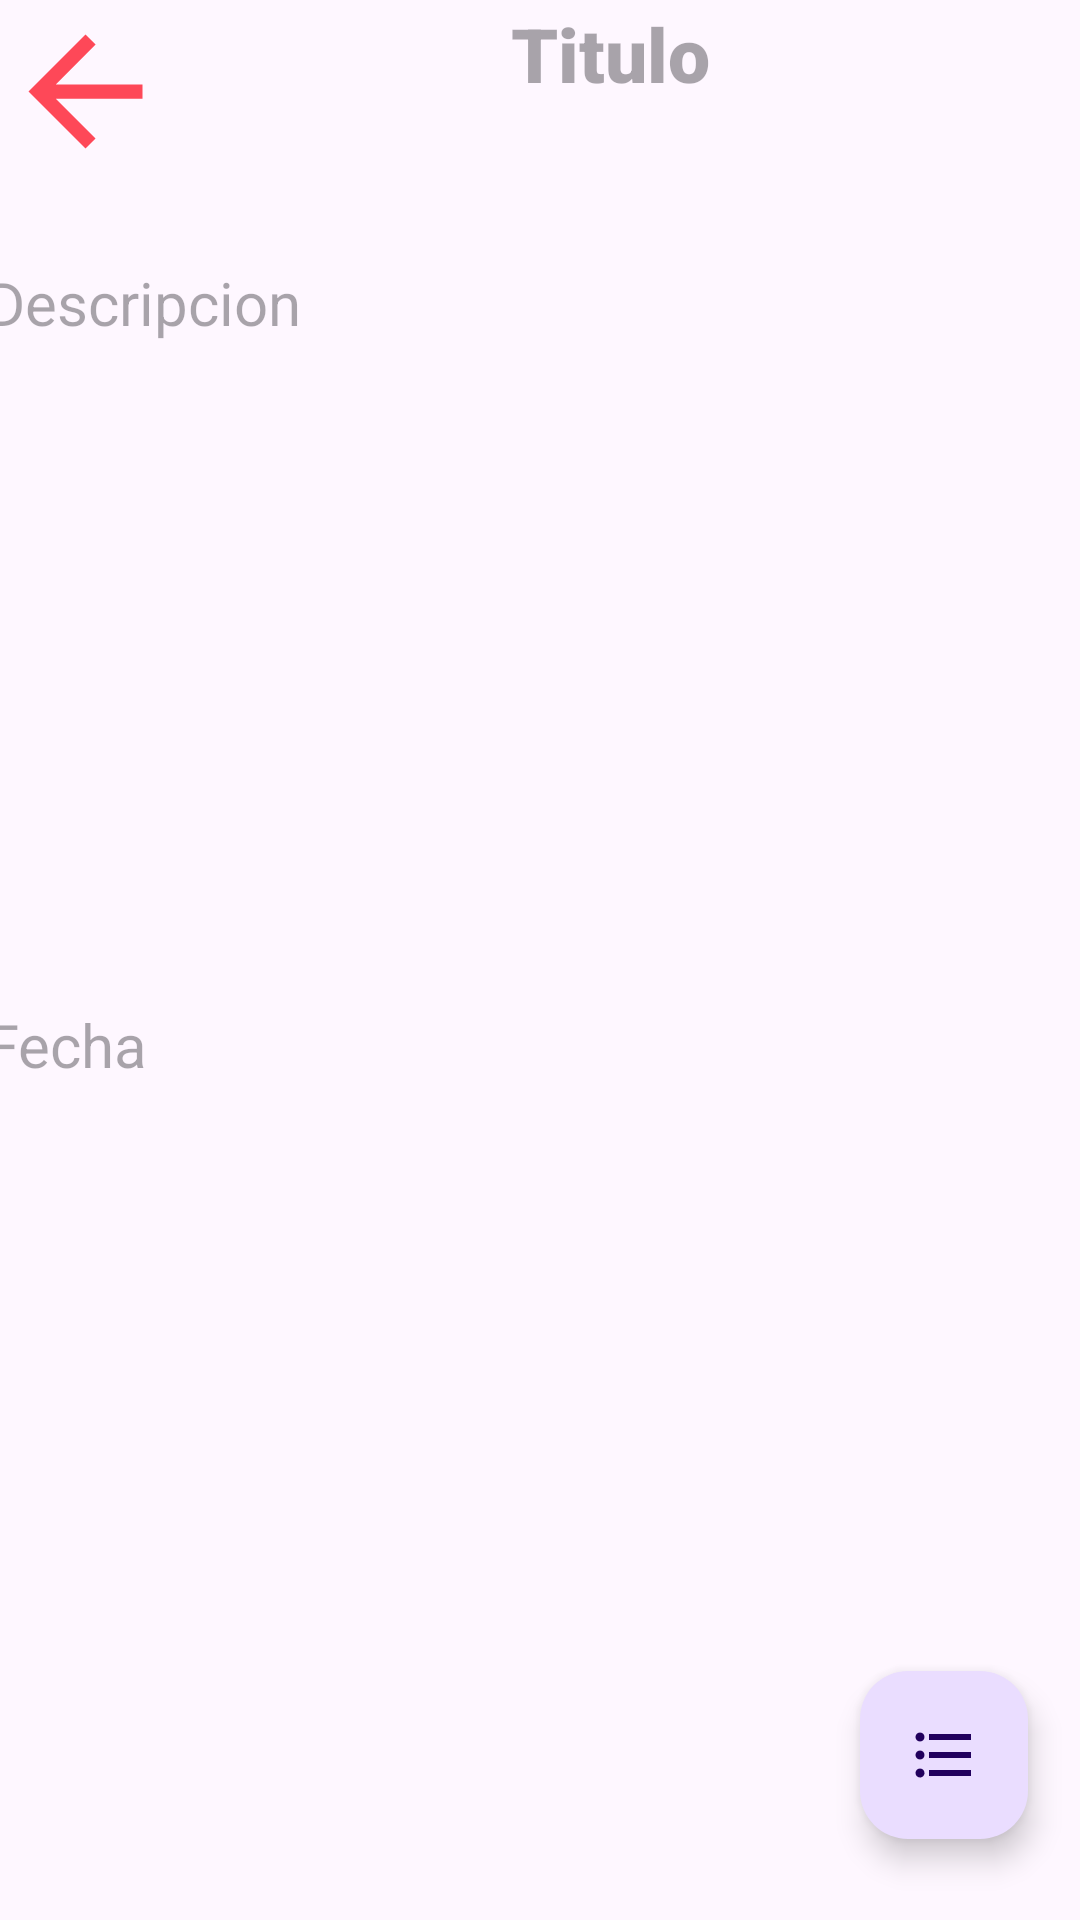

Named icons in this screenshot (1080*1920) and their bounding boxes, {"left": x1, "top": y1, "right": x2, "bottom": y2}:
arrow back: {"left": 28, "top": 34, "right": 143, "bottom": 149}
format list bulleted: {"left": 860, "top": 1671, "right": 1028, "bottom": 1839}
